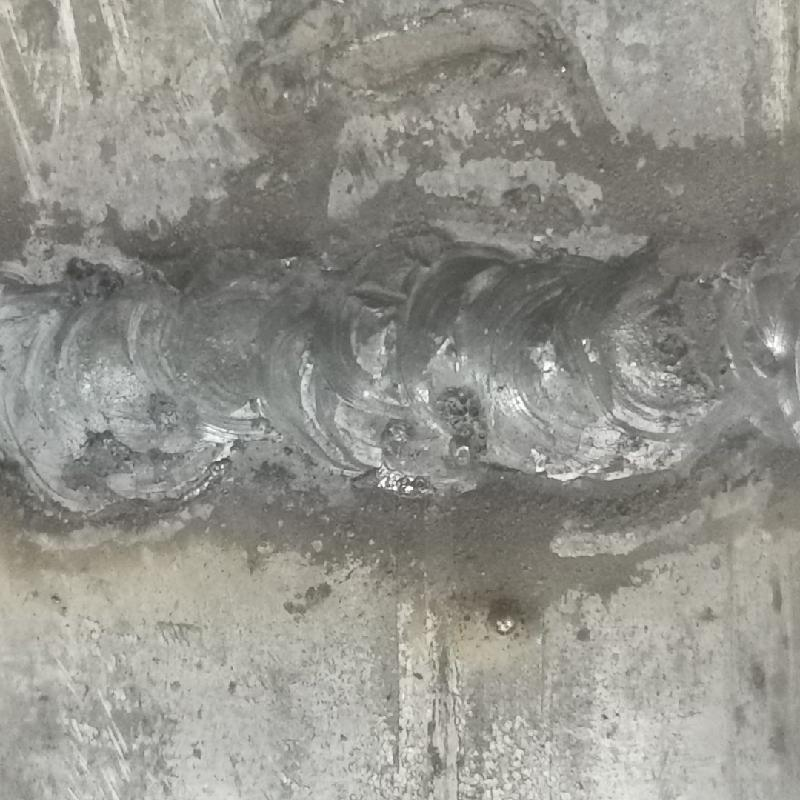good: (1, 239, 799, 504)
